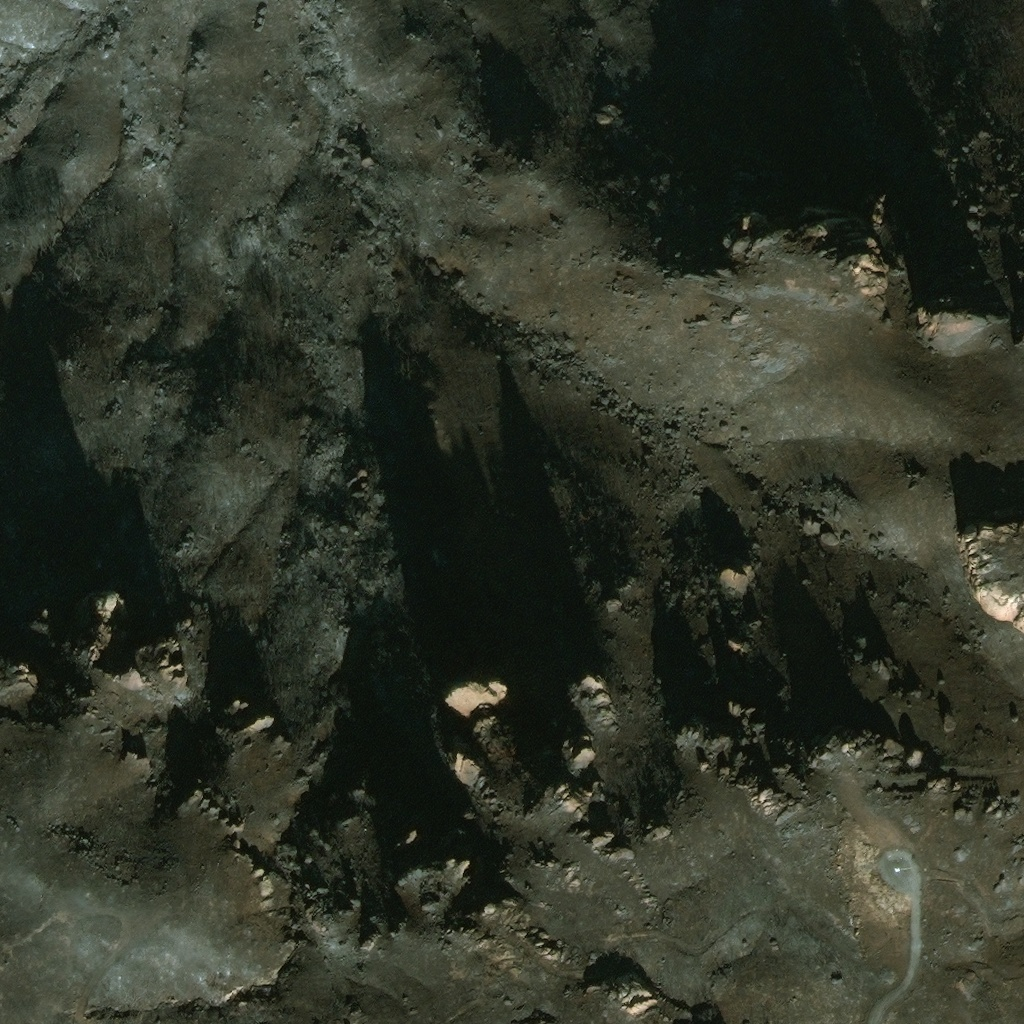3 destroyed: (892, 858, 902, 865), (894, 869, 901, 876)
